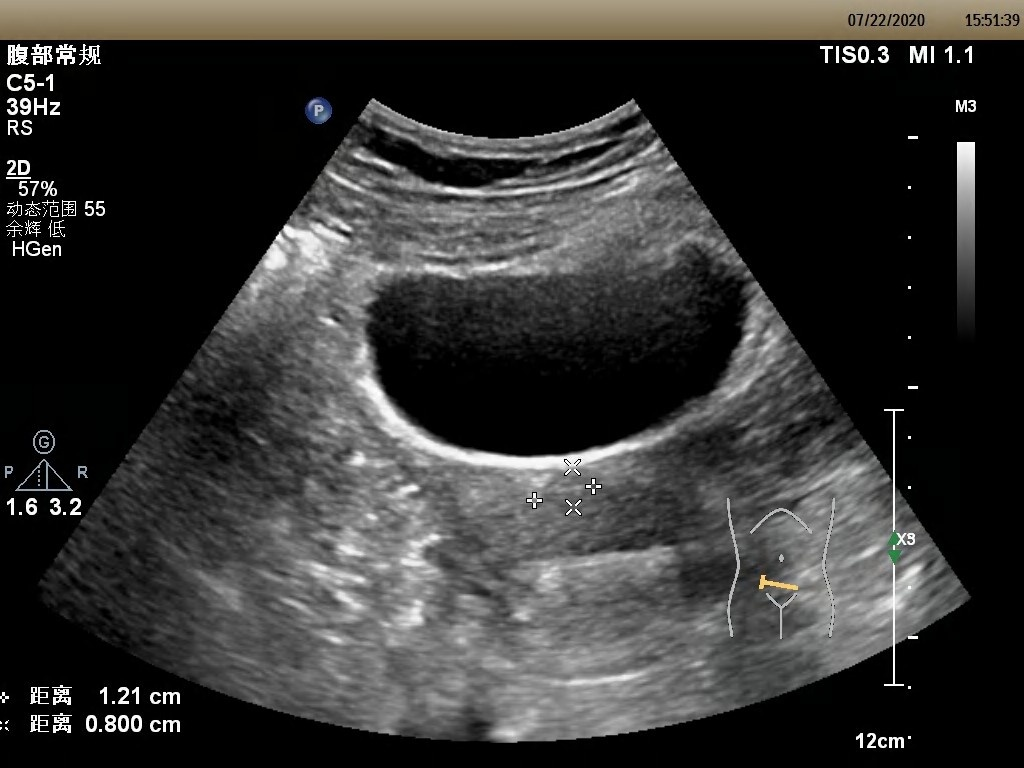肌瘤: (536, 466, 594, 507)
